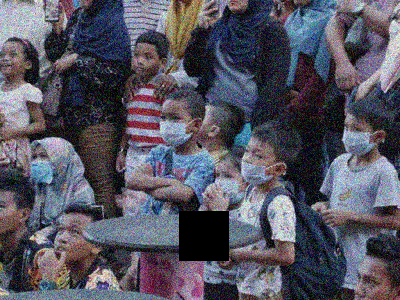mask_weared_incorrect: (240, 143, 277, 186)
with_mask: (341, 118, 376, 156), (159, 110, 193, 148), (214, 168, 246, 205), (29, 150, 55, 183)
without_mask: (51, 221, 96, 263), (354, 266, 397, 300), (133, 47, 159, 76), (1, 50, 27, 78)
